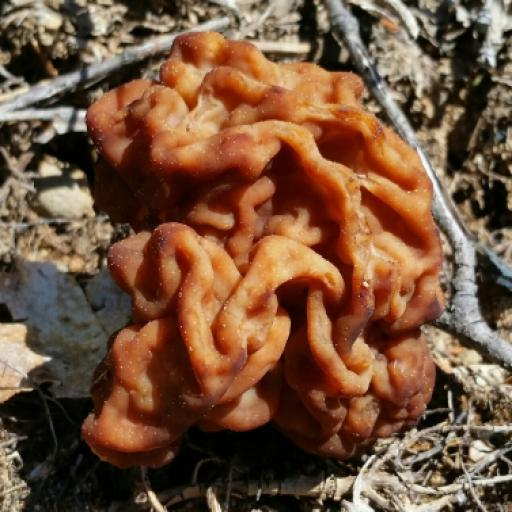mushroom: (87, 30, 449, 470)
